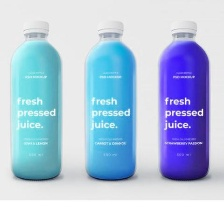bottle: (80, 18, 139, 187), (8, 19, 67, 186), (156, 18, 211, 183)
